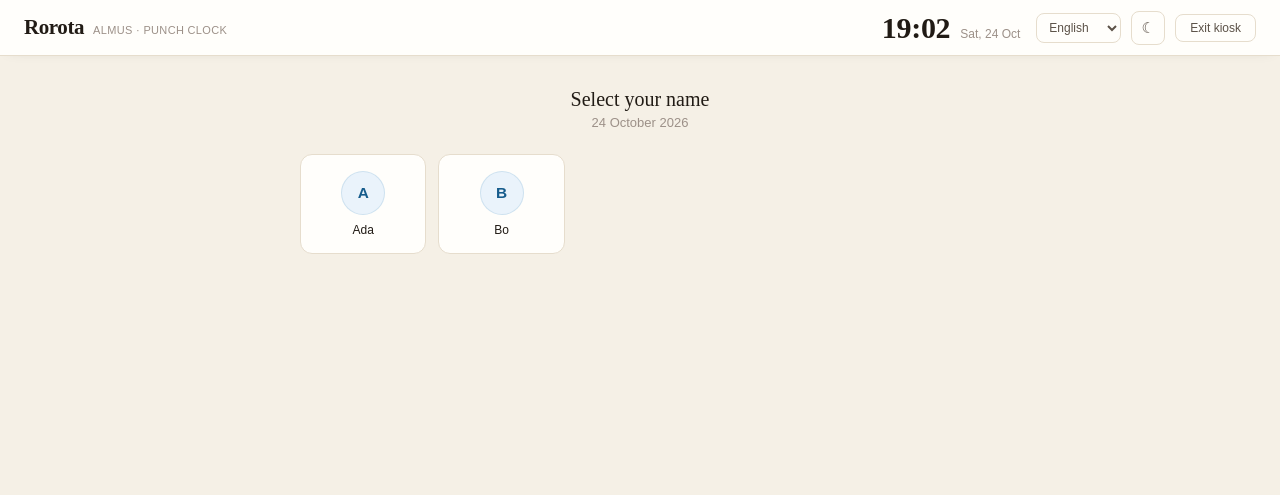
KioskView › physical keyboard › escapes back to the employee list
Click the text "Ada": (363, 230) [352, 223, 374, 237]
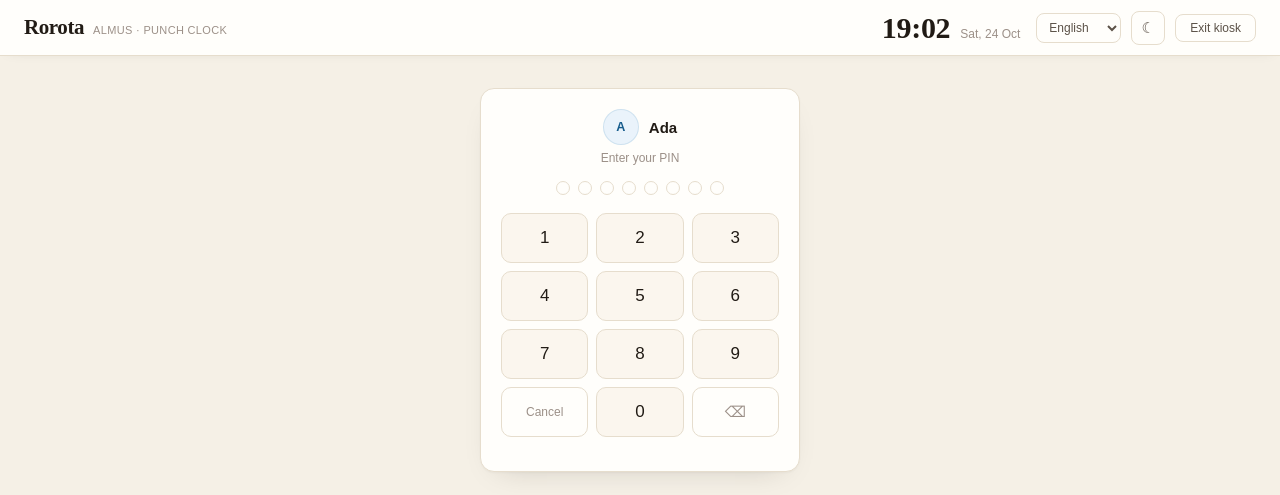
Expected: the button "1" is shown, [501, 213, 588, 263]
Press Escape
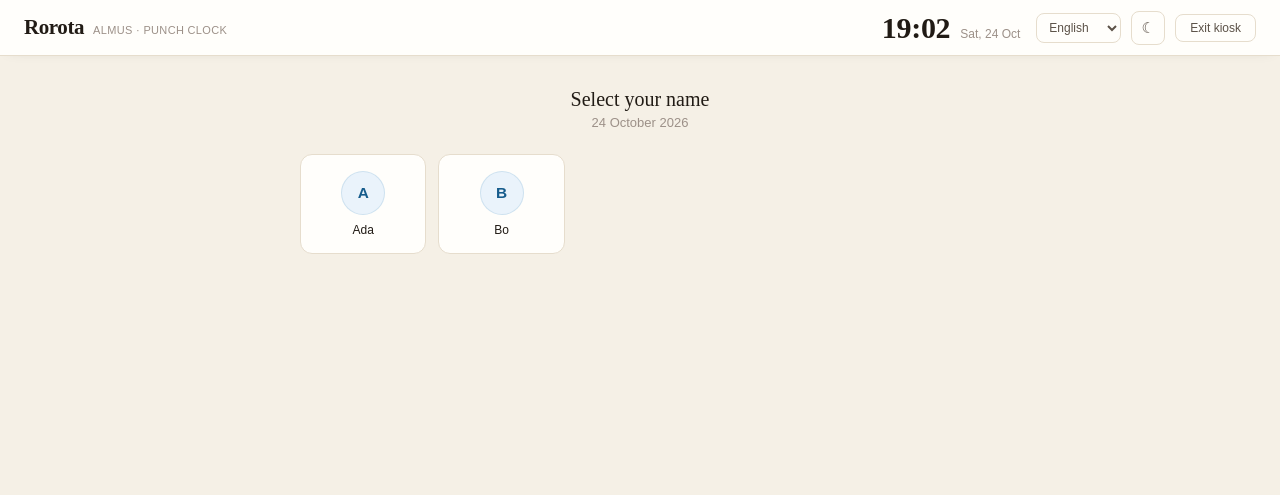
Expected: the text "Bo" is shown, [494, 223, 509, 237]
